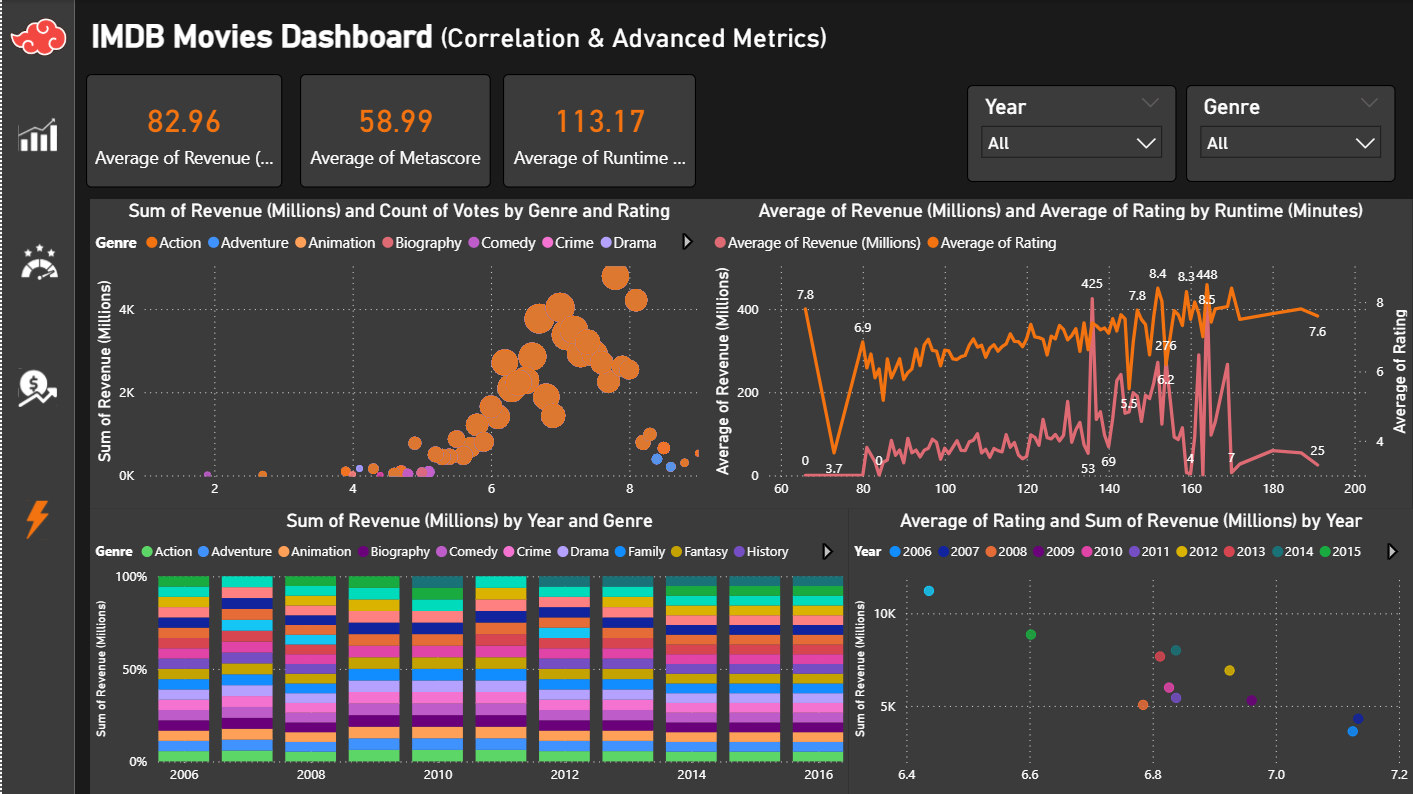

What the dashboard file says about the page in this screenshot:
{"tool":"powerbi","page":{"name":"Advance Analysis","canvas":[1280,720],"ordinal":3},"visuals":[{"type":"shape","box":[0,0,66.3,720.2],"z":0},{"type":"actionButton","box":[11,99.4,42.9,44.2],"z":1000},{"type":"actionButton","box":[12.3,214.7,42.9,44.2],"z":2000},{"type":"actionButton","box":[11,328.8,42.9,44.2],"z":3000},{"type":"actionButton","box":[11,449.1,42.9,44.2],"z":4000},{"type":"image","box":[0,0,66.3,67.5],"z":5000},{"type":"shape","box":[66.3,0,1213.5,720.2],"z":6000},{"type":"textbox","box":[76.1,11,754.6,44.2],"z":7000},{"type":"slicer","fields":{"Values":["IMDB-Movie-Data.Genre"]},"box":[1073.6,77.3,190.2,88.3],"z":8000},{"type":"card","fields":{"Values":["Avg(IMDB-Movie-Data_Org.Revenue (Millions))"]},"box":[76.1,67.5,177.9,103.1],"z":9000},{"type":"card","fields":{"Values":["Avg(IMDB-Movie-Data_Org.Metascore)"]},"box":[269.9,67.5,173,103.1],"z":10000},{"type":"card","fields":{"Values":["Avg(IMDB-Movie-Data_Org.Runtime (Minutes))"]},"box":[454,67.5,175.5,103.1],"z":11000},{"type":"scatterChart","fields":{"X":["IMDB-Movie-Data_Org.Rating"],"Y":["IMDB-Movie-Data_Org.Revenue (Millions)"],"Size":["CountNonNull(IMDB-Movie-Data_Org.Votes)"],"Series":["IMDB-Movie-Data.Genre"]},"box":[79.8,180.4,560.7,281],"z":12000},{"type":"lineChart","fields":{"Category":["IMDB-Movie-Data_Org.Runtime (Minutes)"],"Y":["Avg(IMDB-Movie-Data_Org.Revenue (Millions))"],"Y2":["Avg(IMDB-Movie-Data_Org.Rating)"]},"box":[640.5,180.4,639.3,281],"z":13000},{"type":"scatterChart","fields":{"X":["IMDB-Movie-Data_Org.Rating"],"Y":["IMDB-Movie-Data_Org.Revenue (Millions)"],"Series":["IMDB-Movie-Data_Org.Year"]},"box":[768.1,461.4,511.7,258.9],"z":14000},{"type":"hundredPercentStackedColumnChart","fields":{"Category":["IMDB-Movie-Data_Org.Year"],"Y":["Sum(IMDB-Movie-Data_Org.Revenue (Millions))"],"Series":["IMDB-Movie-Data.Genre"]},"box":[79.8,461.4,688.3,258.9],"z":15000},{"type":"slicer","fields":{"Values":["IMDB-Movie-Data_Org.Year"]},"box":[874.9,77.3,190.2,88.3],"z":16000}]}

Visuals, with their boxes in screenshot pixels (x1, y1, x2, y2), scaled from the page's 1280x720 canvas onto the 1413x794 screenshot:
shape: {"left": 0, "top": 0, "right": 73, "bottom": 793}
actionButton: {"left": 12, "top": 110, "right": 60, "bottom": 158}
actionButton: {"left": 14, "top": 237, "right": 61, "bottom": 286}
actionButton: {"left": 12, "top": 363, "right": 60, "bottom": 411}
actionButton: {"left": 12, "top": 495, "right": 60, "bottom": 544}
image: {"left": 0, "top": 0, "right": 73, "bottom": 74}
shape: {"left": 73, "top": 0, "right": 1412, "bottom": 793}
textbox: {"left": 84, "top": 12, "right": 917, "bottom": 61}
slicer - IMDB-Movie-Data.Genre: {"left": 1185, "top": 85, "right": 1395, "bottom": 183}
card - Avg(IMDB-Movie-Data_Org.Revenue (Millions)): {"left": 84, "top": 74, "right": 280, "bottom": 188}
card - Avg(IMDB-Movie-Data_Org.Metascore): {"left": 298, "top": 74, "right": 489, "bottom": 188}
card - Avg(IMDB-Movie-Data_Org.Runtime (Minutes)): {"left": 501, "top": 74, "right": 695, "bottom": 188}
scatterChart - IMDB-Movie-Data_Org.Rating x IMDB-Movie-Data_Org.Revenue (Millions): {"left": 88, "top": 199, "right": 707, "bottom": 509}
lineChart - IMDB-Movie-Data_Org.Runtime (Minutes) x Avg(IMDB-Movie-Data_Org.Revenue (Millions)): {"left": 707, "top": 199, "right": 1412, "bottom": 509}
scatterChart - IMDB-Movie-Data_Org.Rating x IMDB-Movie-Data_Org.Revenue (Millions): {"left": 848, "top": 509, "right": 1412, "bottom": 793}
hundredPercentStackedColumnChart - IMDB-Movie-Data_Org.Year x Sum(IMDB-Movie-Data_Org.Revenue (Millions)): {"left": 88, "top": 509, "right": 848, "bottom": 793}
slicer - IMDB-Movie-Data_Org.Year: {"left": 966, "top": 85, "right": 1176, "bottom": 183}
